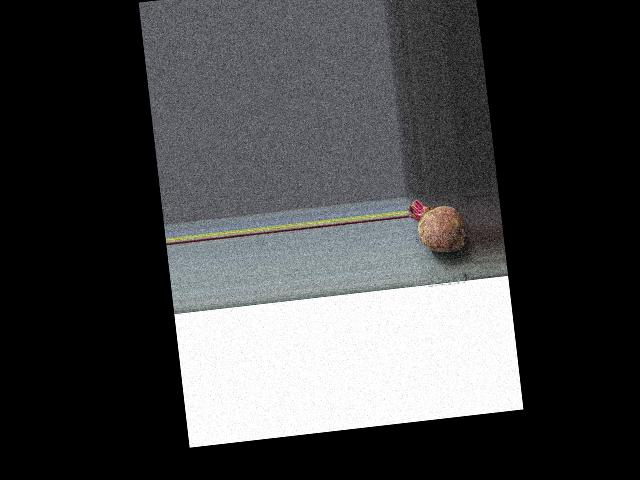beet: (406, 195, 468, 256)
